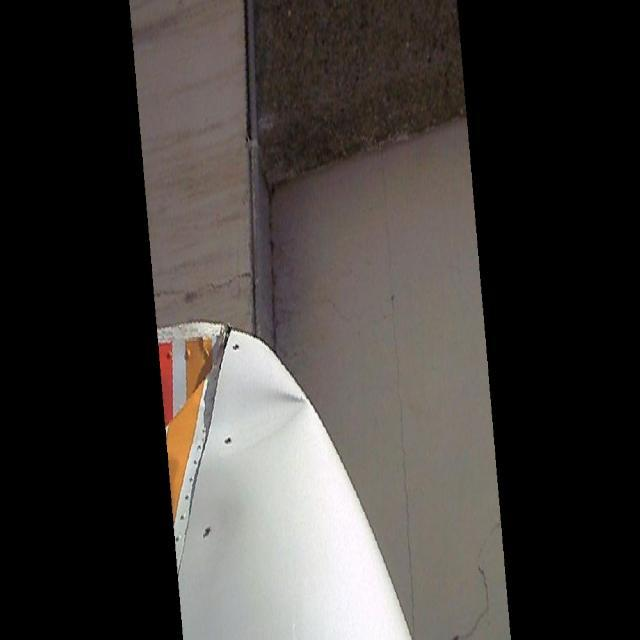dent: (129, 314, 314, 456)
